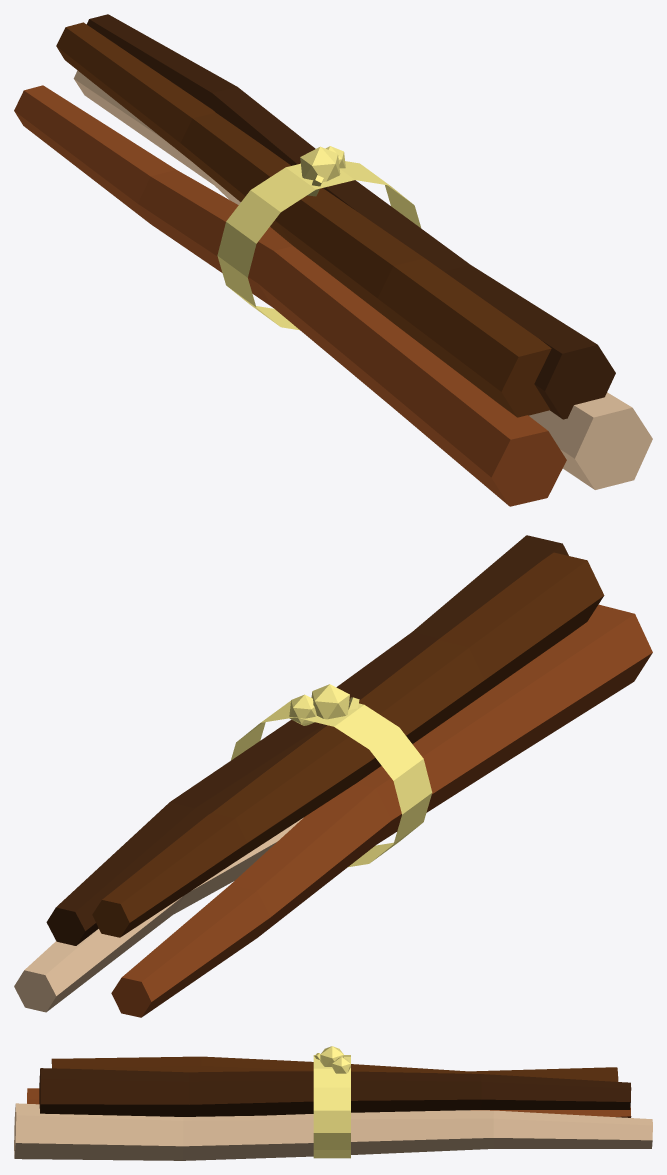
The model's file is branches.fbx.
The picture shows the model from 3 angles, top to bottom: view 1: azimuth 30°, elevation 25°; view 2: azimuth 150°, elevation 25°; view 3: azimuth 270°, elevation 25°; orthographic projection. The views are drawn at different scales.
Visible parts, largest first — view 1: Twig1, Twig3, Twig4, Twig2, TwineBand; view 2: Twig1, Twig3, Twig4, TwineBand, Twig2; view 3: Twig2, Twig4, Twig3, TwineBand, Twig1.
Boxes of the visible parts, left/top/right/bottom form: Twig1: left=14, top=85, right=566, bottom=506; Twig3: left=56, top=22, right=551, bottom=417; Twig4: left=86, top=14, right=615, bottom=419; Twig2: left=73, top=70, right=652, bottom=489; TwineBand: left=217, top=146, right=420, bottom=330; Twig1: left=111, top=604, right=652, bottom=1017; Twig3: left=92, top=552, right=604, bottom=937; Twig4: left=46, top=535, right=568, bottom=945; TwineBand: left=231, top=684, right=432, bottom=867; Twig2: left=14, top=817, right=303, bottom=1012; Twig2: left=14, top=1103, right=652, bottom=1160; Twig4: left=39, top=1068, right=631, bottom=1116; Twig3: left=51, top=1056, right=618, bottom=1081; TwineBand: left=313, top=1046, right=350, bottom=1158; Twig1: left=27, top=1088, right=631, bottom=1117.
Size of the model in its own units: 0.4 by 0.371 by 2.06.
